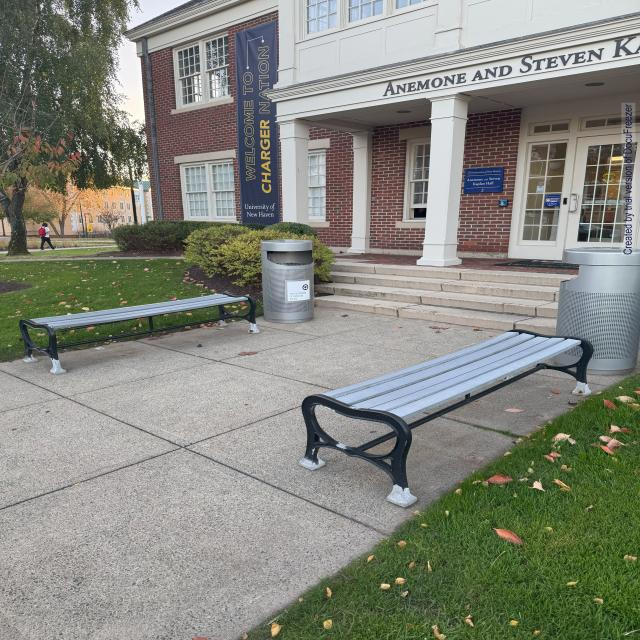Trash bin: (256, 230, 335, 330)
chair: (304, 325, 623, 494), (18, 286, 274, 362)
